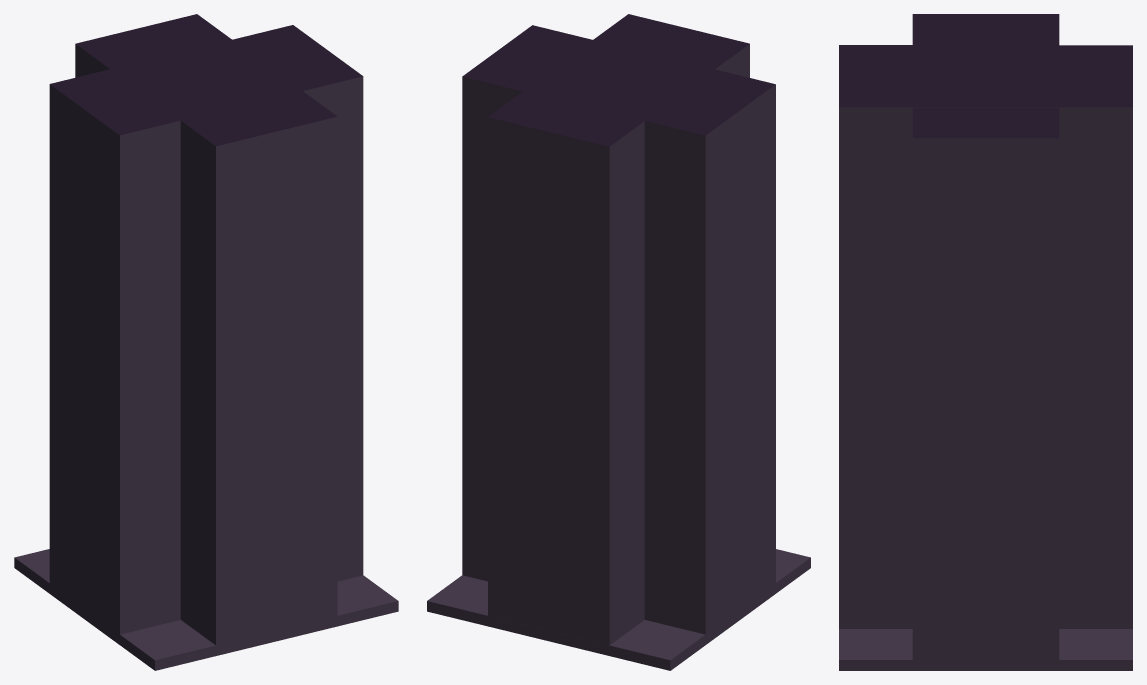
File: 4-corner_purple.dae
The picture shows the model from 3 angles, left to right: view 1: azimuth 30°, elevation 25°; view 2: azimuth 150°, elevation 25°; view 3: azimuth 270°, elevation 25°; orthographic projection. The views are drawn at different scales.
Visible parts, largest first — view 1: corner_MSH; view 2: corner_MSH; view 3: corner_MSH.
Boxes of the visible parts, box(x1,y1,x2,y2) form: corner_MSH: box(14, 14, 398, 670); corner_MSH: box(427, 14, 810, 670); corner_MSH: box(839, 14, 1132, 670).
Bounding box in the file's own units: 1 × 2 × 1.
